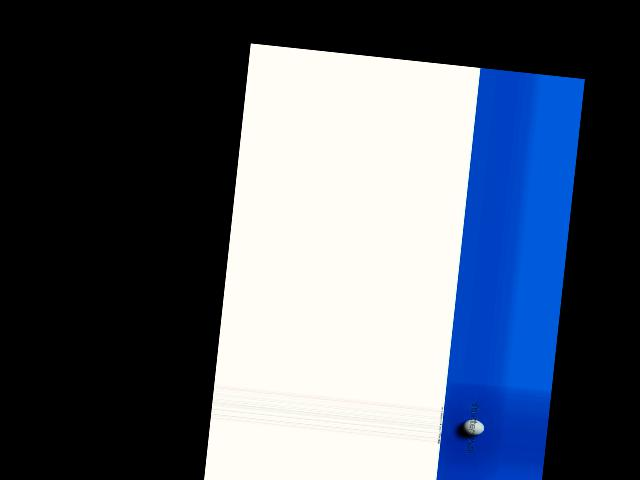egg: (461, 419, 485, 436)
